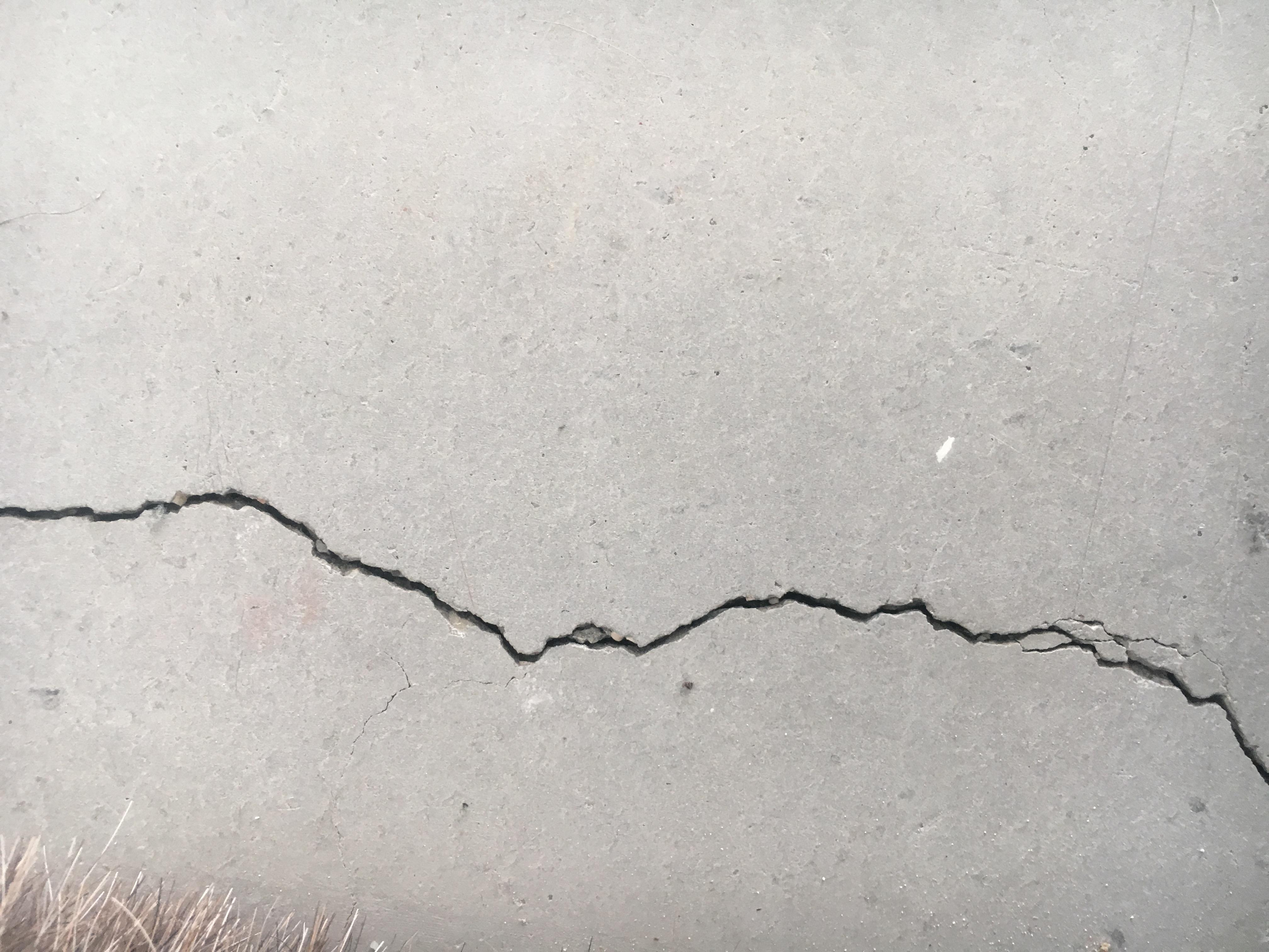Horizontal Settlement Crack: (3, 483, 1266, 783)
